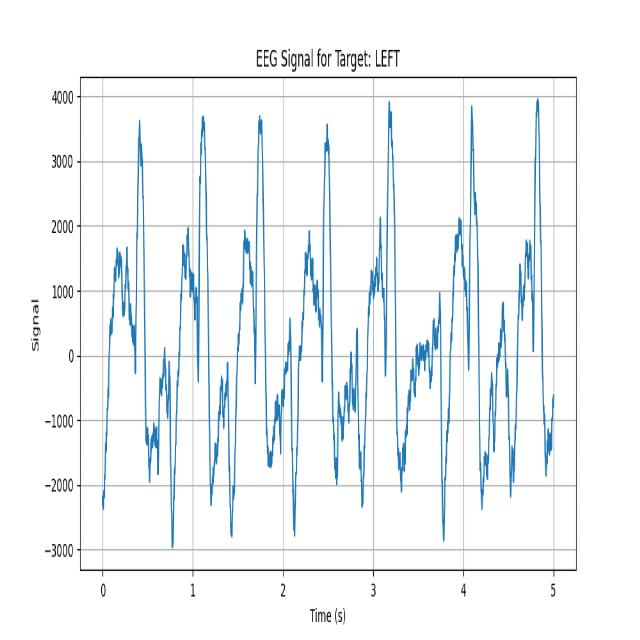LEFT: (345, 96, 415, 548), (430, 94, 497, 546), (284, 97, 346, 547), (165, 98, 225, 549), (225, 97, 284, 554), (102, 99, 165, 524), (510, 94, 562, 548)
